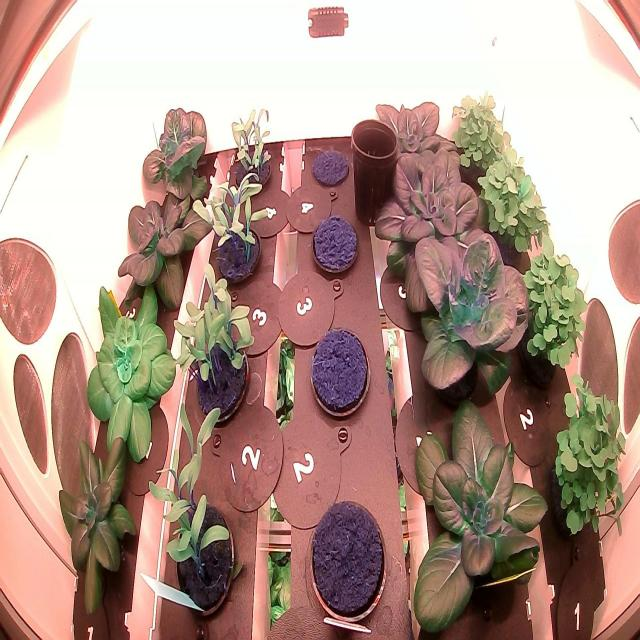pod: (304, 495, 390, 631), (307, 320, 372, 422), (308, 202, 364, 292), (307, 136, 356, 197)
young: (399, 384, 556, 640), (395, 214, 539, 418), (366, 145, 500, 295), (84, 272, 179, 465), (54, 426, 144, 628), (105, 168, 214, 316), (361, 84, 467, 208), (132, 88, 216, 218)
